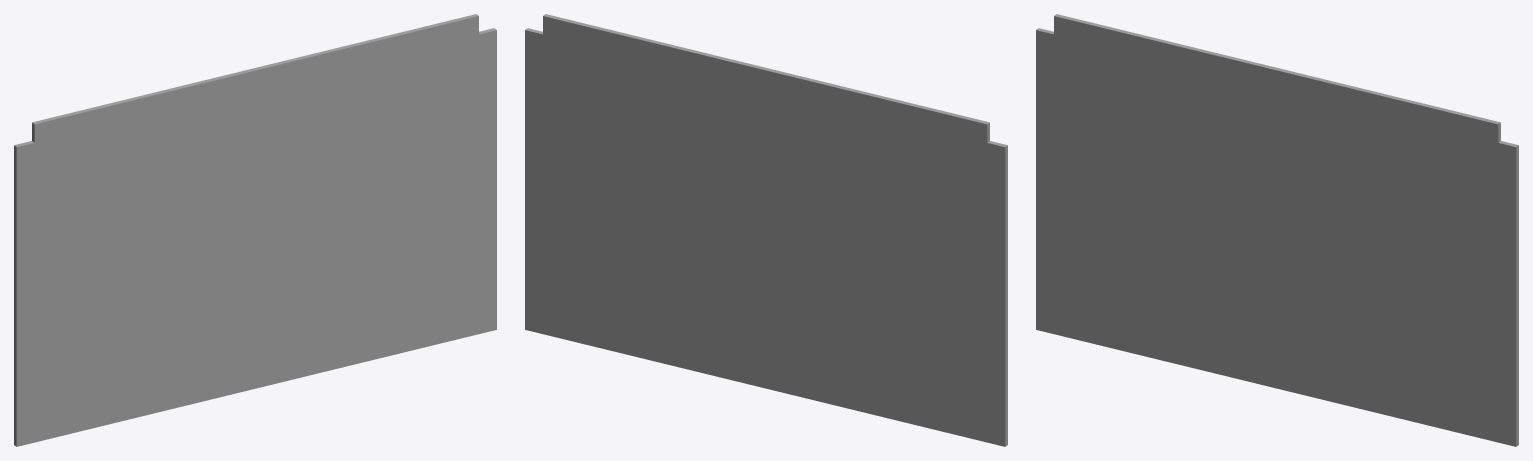
File: big wall.fbx
3 views of the same model, side by side, from view 1: azimuth 30°, elevation 25°; view 2: azimuth 150°, elevation 25°; view 3: azimuth 330°, elevation 25° (orthographic).
Visible parts, largest first — view 1: cube, cube_1; view 2: cube, cube_1; view 3: cube, cube_1.
Part boxes in pixels (x1,y1,x2,y2): cube: [14, 28, 496, 446]; cube_1: [32, 14, 478, 142]; cube: [525, 28, 1007, 446]; cube_1: [543, 14, 989, 142]; cube: [1036, 28, 1518, 446]; cube_1: [1054, 14, 1500, 142].
Size of the model in its own units: 2512 by 1591 by 25.
Materials: 1 (1 with a texture image).
